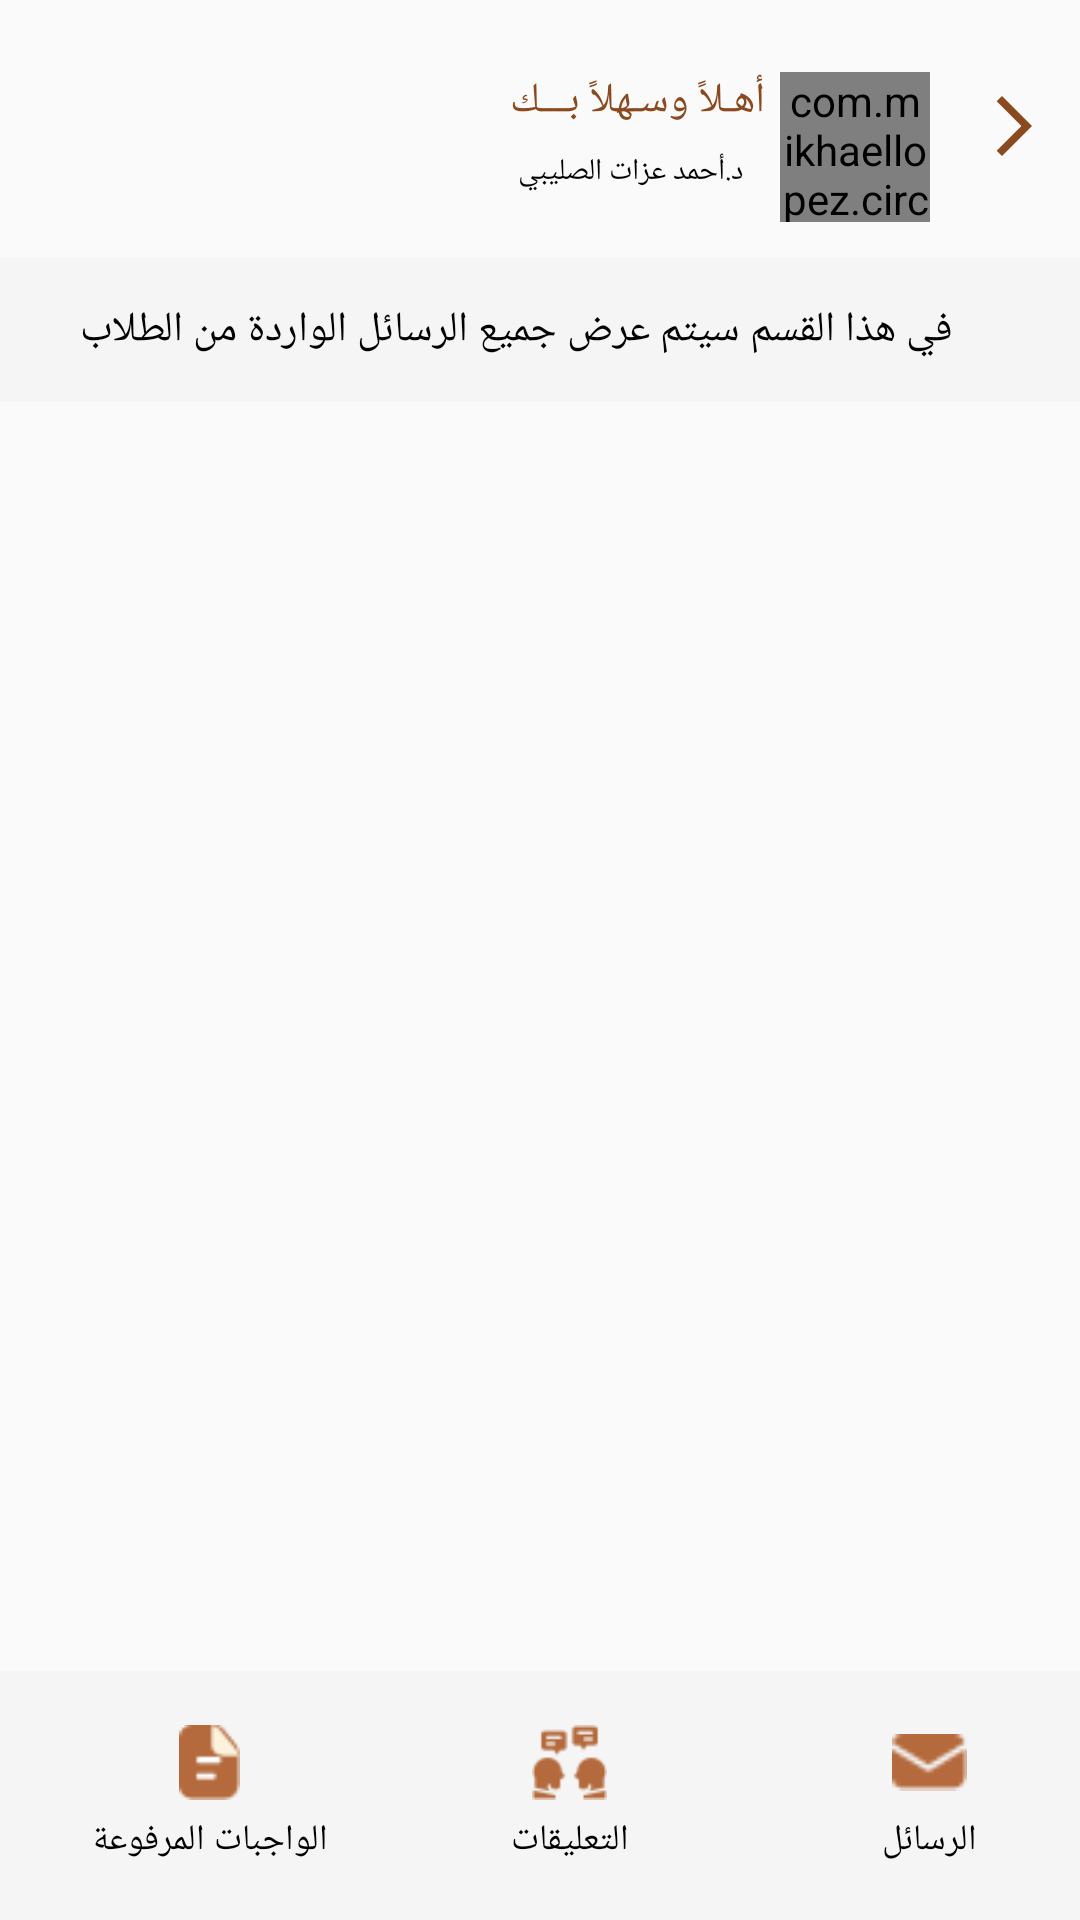

Point at icon controls on the screen. Image size 1080x1920, points as [x,y].
arrow forward: [1014,126]
emailadmin: [929,1762]
icpn homework: [209,1762]
